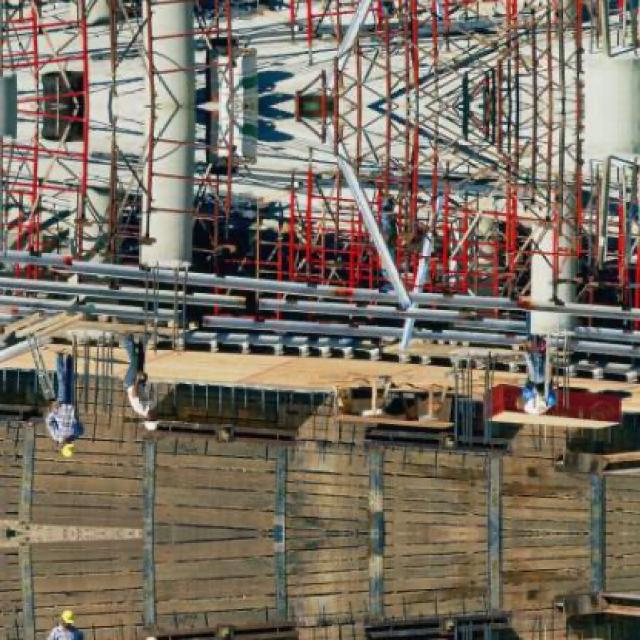con casco: (506, 385, 566, 420), (50, 443, 93, 481), (137, 401, 178, 439)
